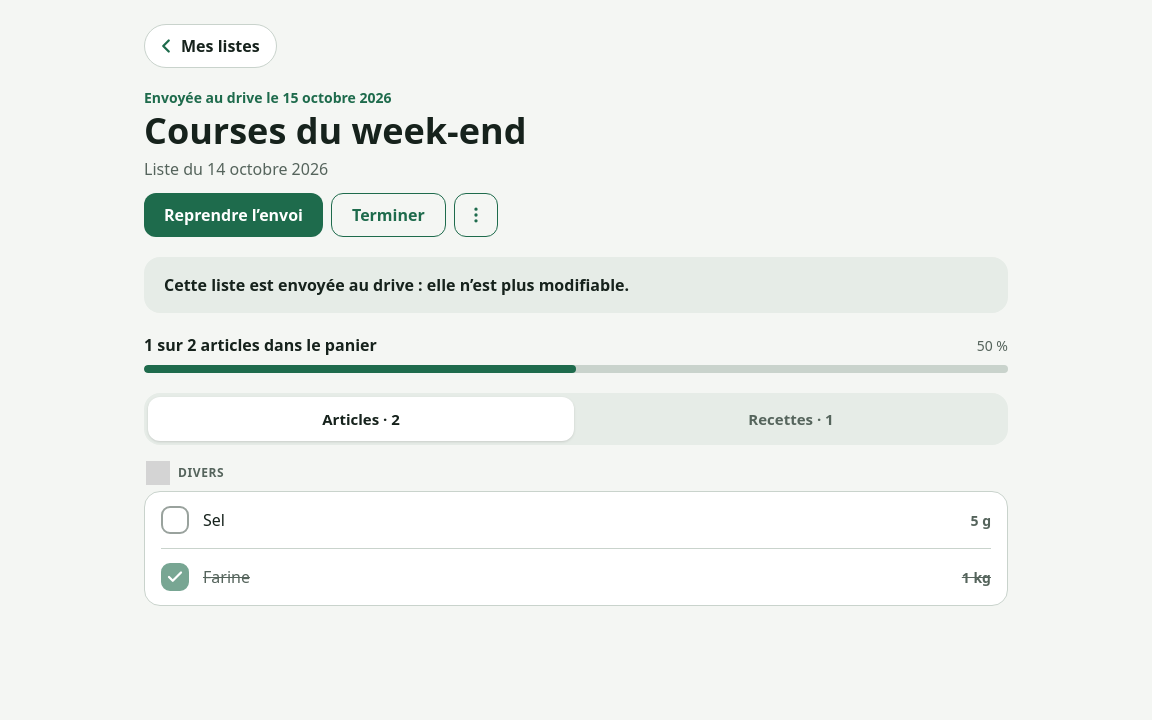
Test: liste envoyée au drive (page de la liste) › rouvre puis relit la liste, qui redevient modifiable
Check: the heading "Courses du week-end" is shown, box [144,106,526,155]
Click the button named "Plus d’actions": (476, 215) [454,193,498,237]
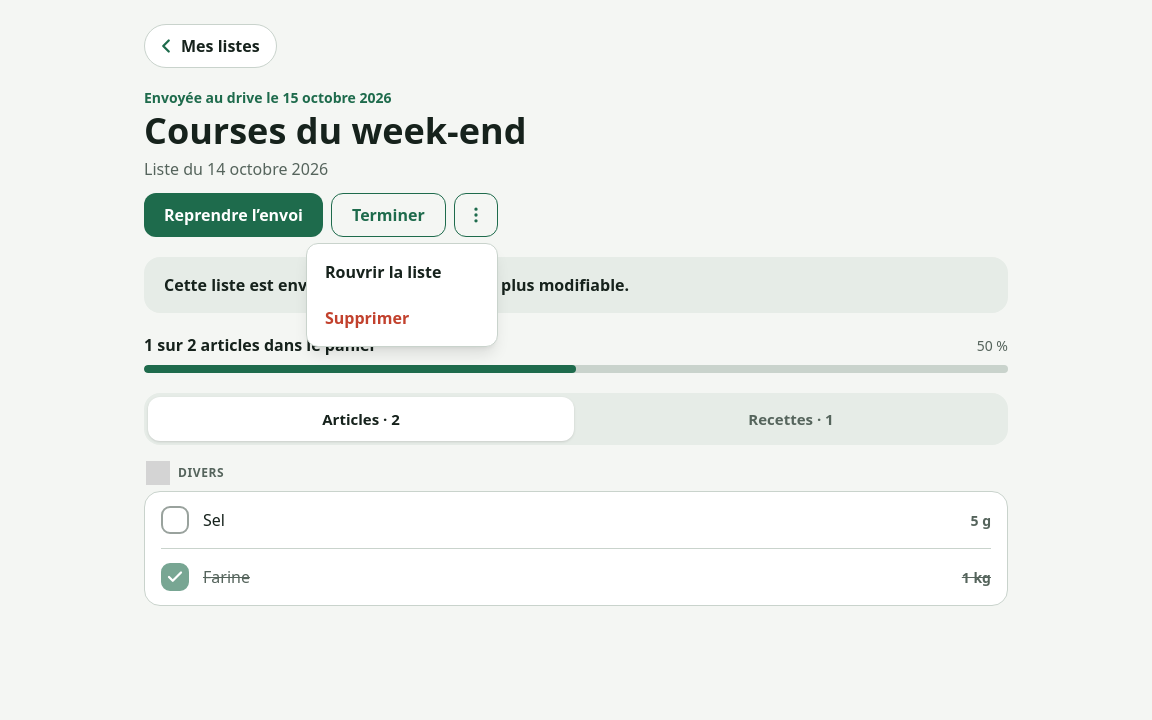
Check: the menu item "Rouvrir la liste" is shown
Click the menu item "Rouvrir la liste": (383, 272) [325,261,442,283]
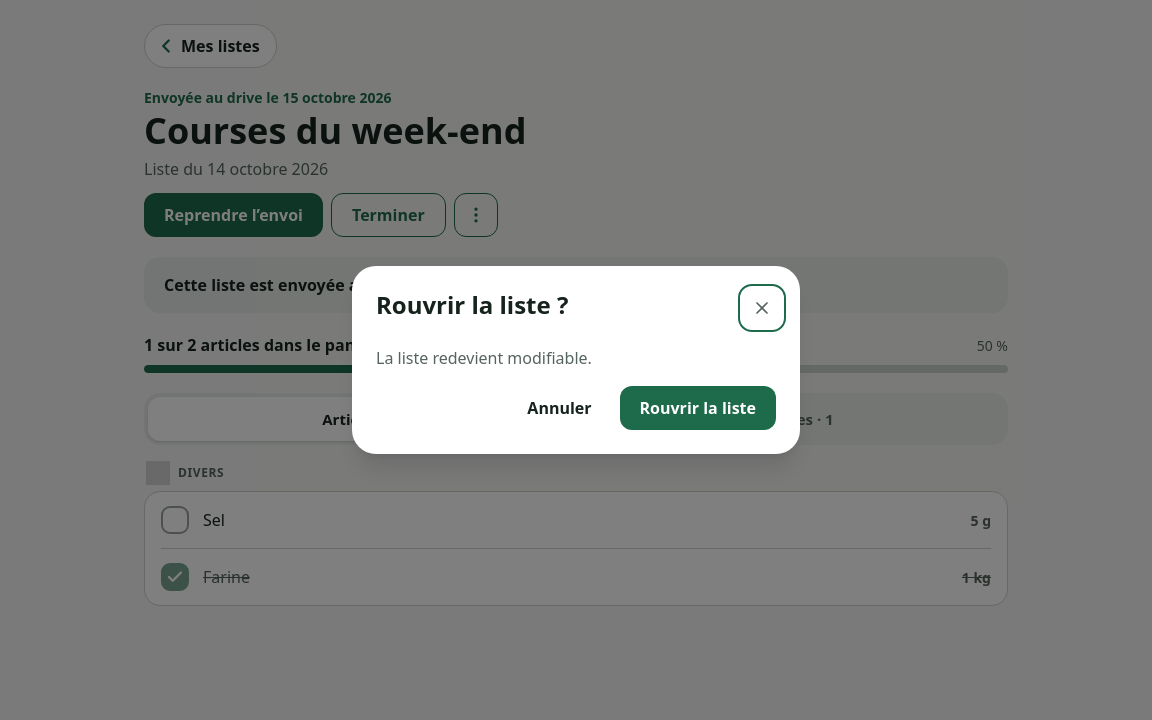
Check: the button "Rouvrir la liste" is shown
Click the button "Rouvrir la liste": (698, 408) [620,386,776,430]
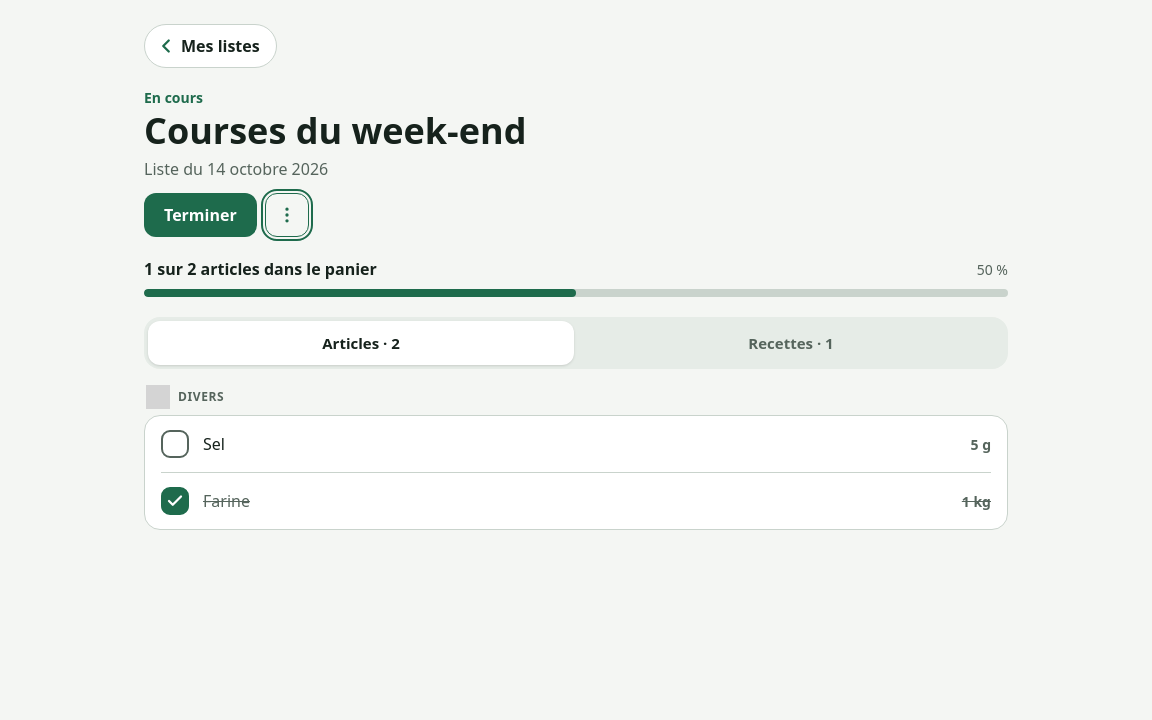
Check: the text "En cours" is shown, box [144,88,203,107]
Check: the dialog is gone
